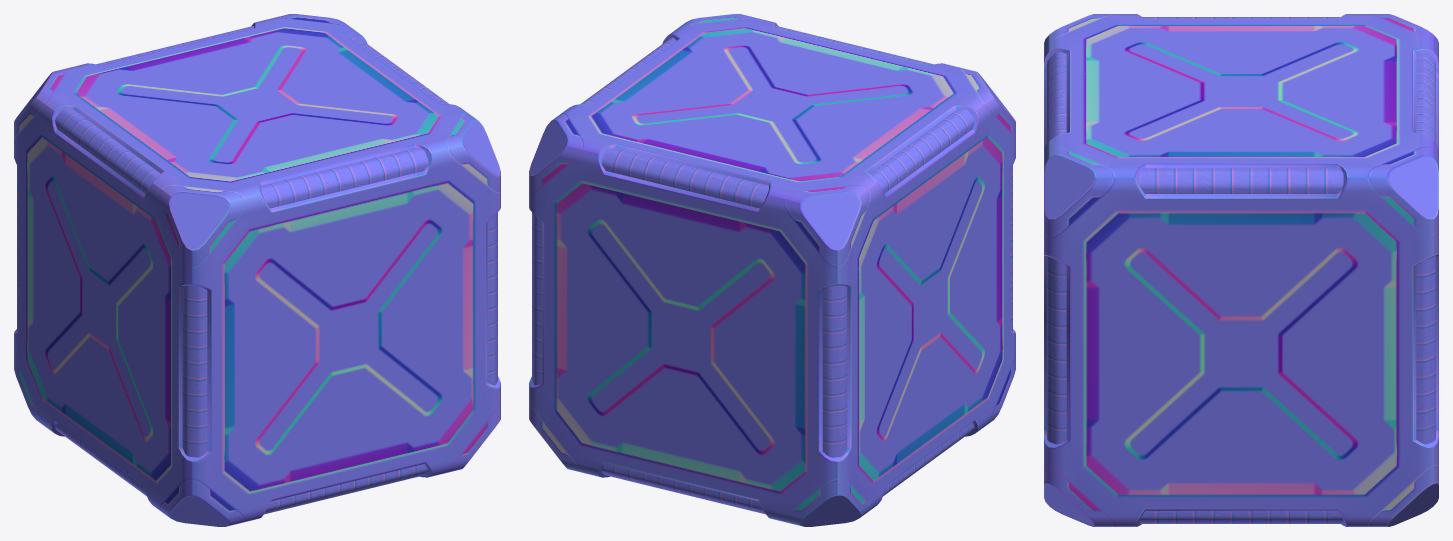
The model's file is Sci-fi Box.obj.
3 renders of one model, left to right at view 1: azimuth 30°, elevation 25°; view 2: azimuth 150°, elevation 25°; view 3: azimuth 270°, elevation 25°, orthographic. The views are drawn at different scales.
Visible parts, largest first — view 1: Sci-fi_Box_Куб.003; view 2: Sci-fi_Box_Куб.003; view 3: Sci-fi_Box_Куб.003.
Part boxes in pixels (x1=…): Sci-fi_Box_Куб.003: x1=14, y1=14, x2=500, y2=526; Sci-fi_Box_Куб.003: x1=529, y1=14, x2=1015, y2=526; Sci-fi_Box_Куб.003: x1=1044, y1=14, x2=1438, y2=526.
Size of the model in its own units: 2 by 2 by 2.
Materials: 1 (1 with a texture image).
